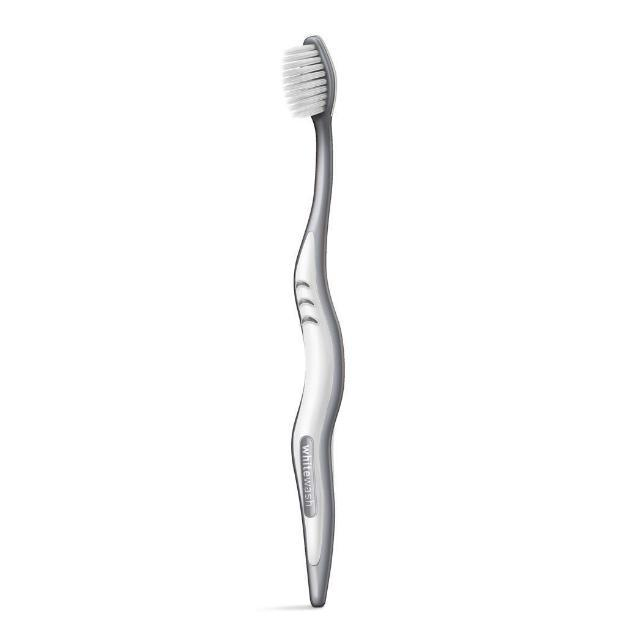toothbrush: (251, 21, 375, 624)
